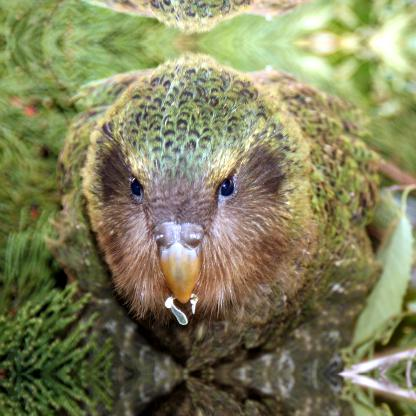Bird: (41, 48, 387, 372)
